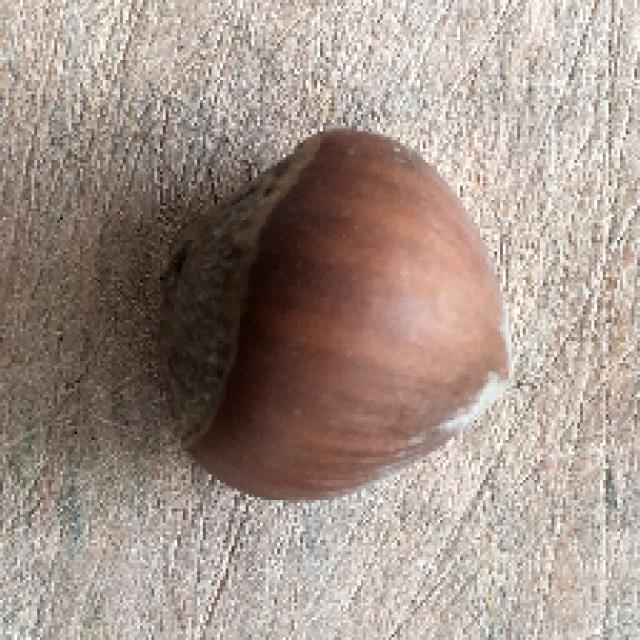damagedHazelnut: (148, 123, 520, 510)
